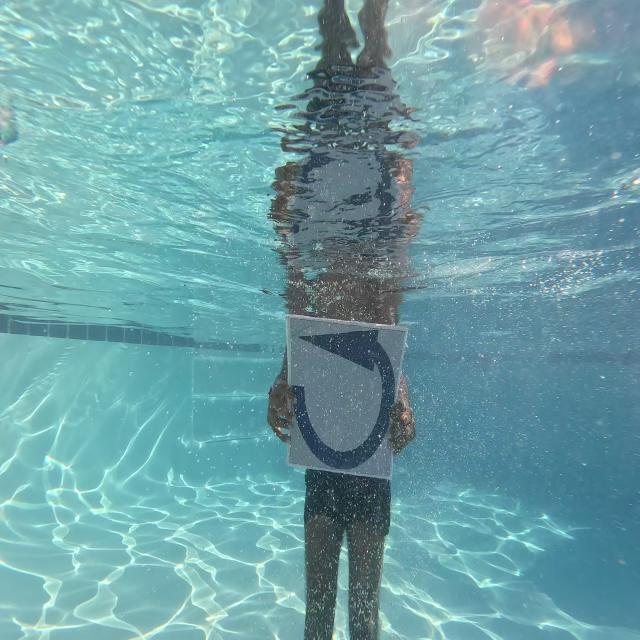blue_side: (282, 318, 395, 482)
